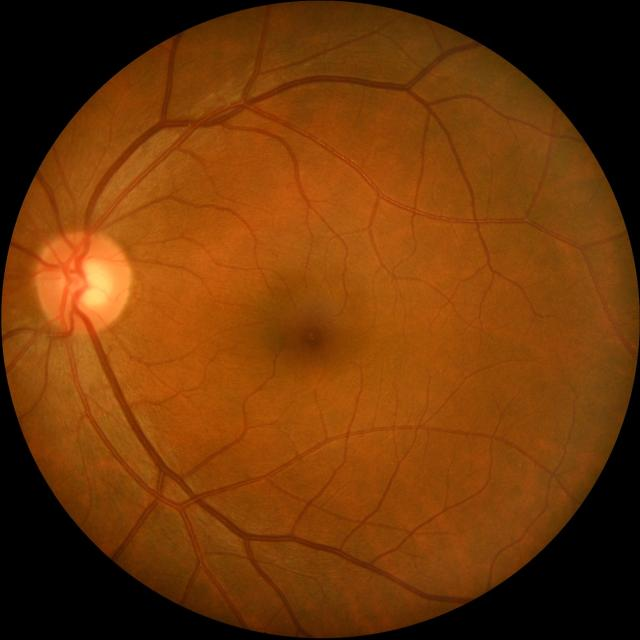OC: (64, 258, 110, 308)
OD: (34, 230, 131, 333)
